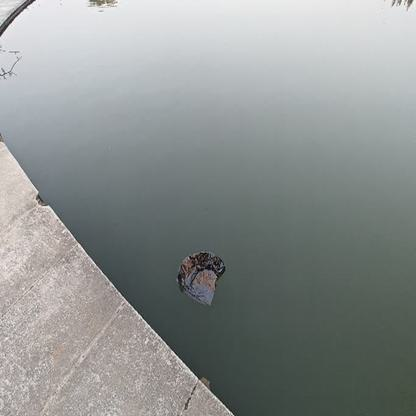plastic bag: (177, 250, 226, 305)
